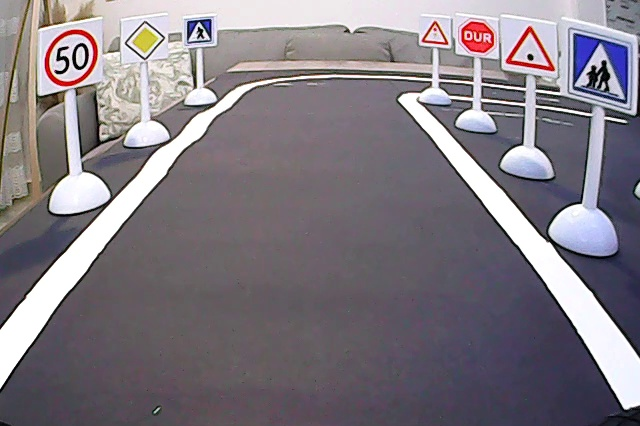green light: (504, 20, 558, 74)
pedestrian crossing: (185, 16, 216, 46)
red light: (420, 18, 451, 48)
school crossing: (567, 25, 634, 110)
speed limit 50: (42, 27, 102, 88)
stop sign: (456, 17, 499, 59)
